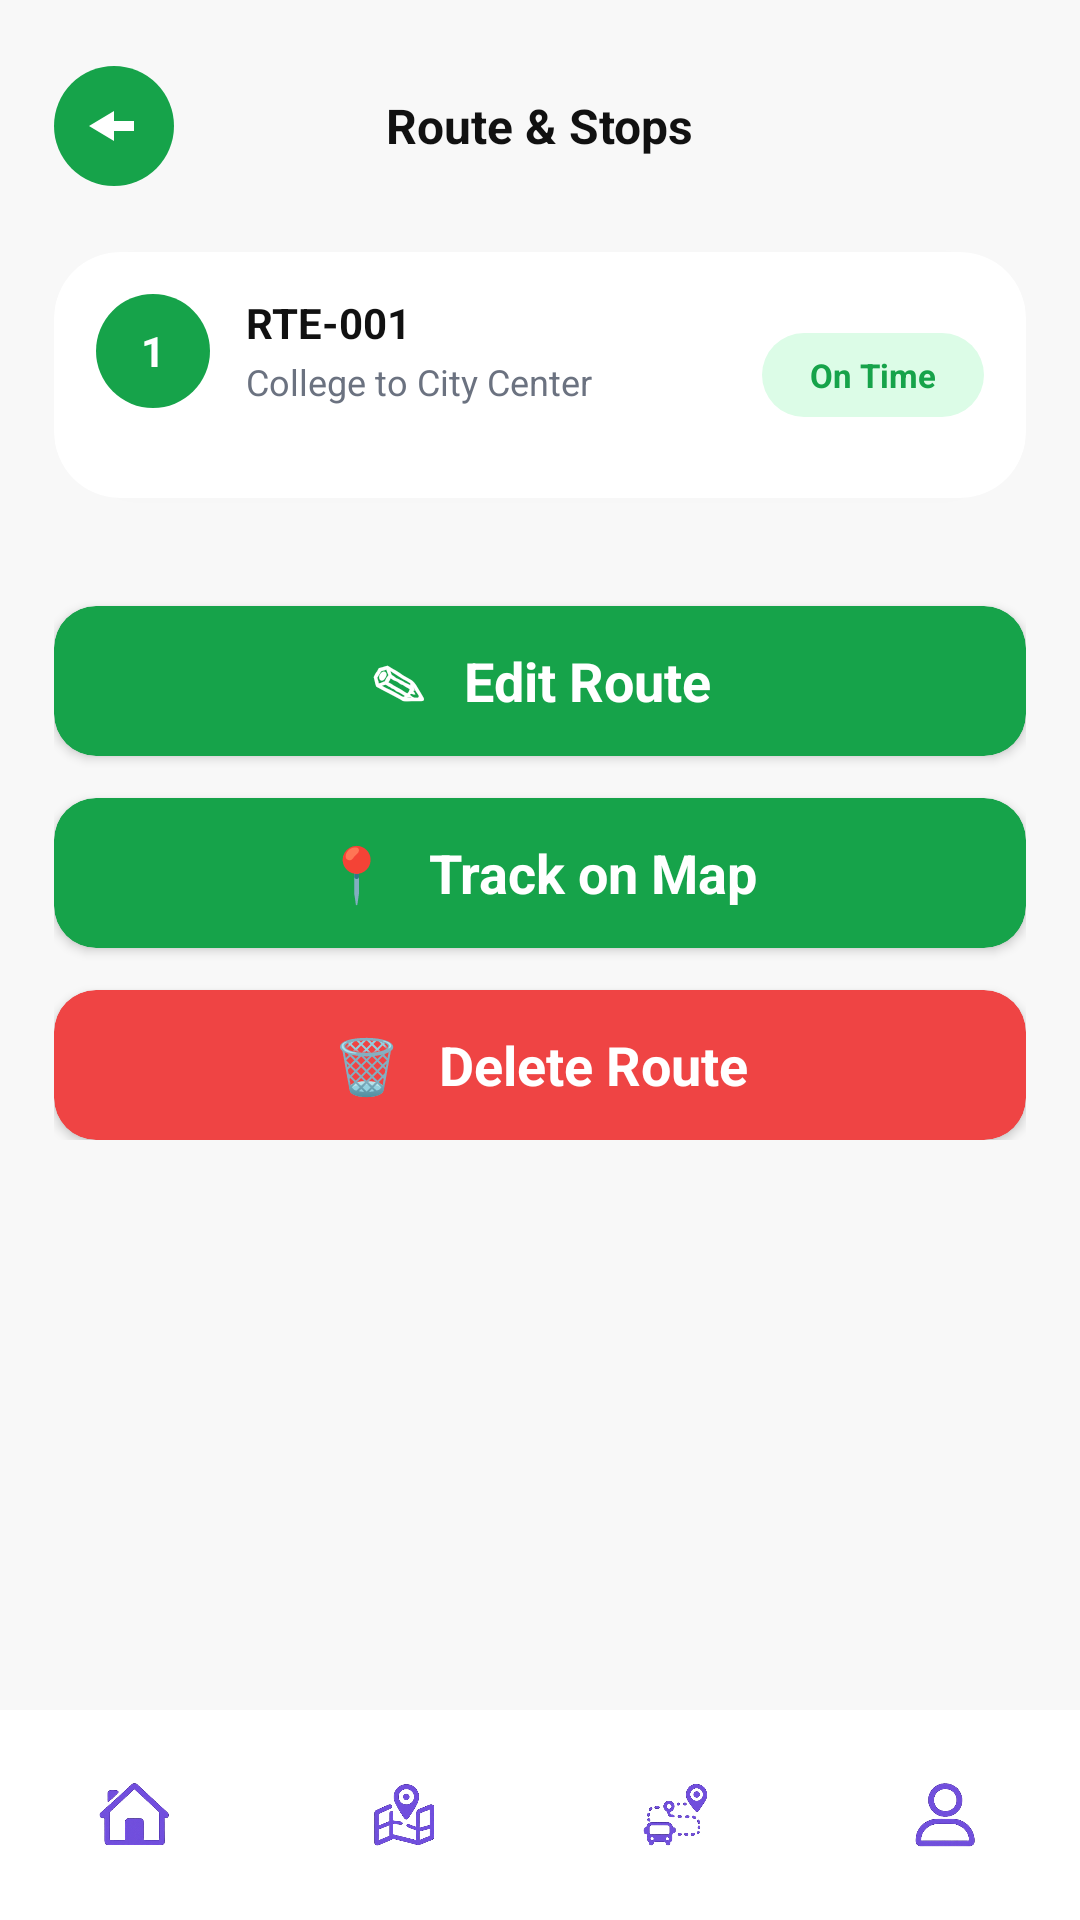

Icons on this 1080x1920 Android screen, each with the point to tap as (x=x, y=y):
back: (x=114, y=126)
home: (x=134, y=1814)
map: (x=404, y=1815)
profile: (x=945, y=1815)
routes: (x=675, y=1815)
